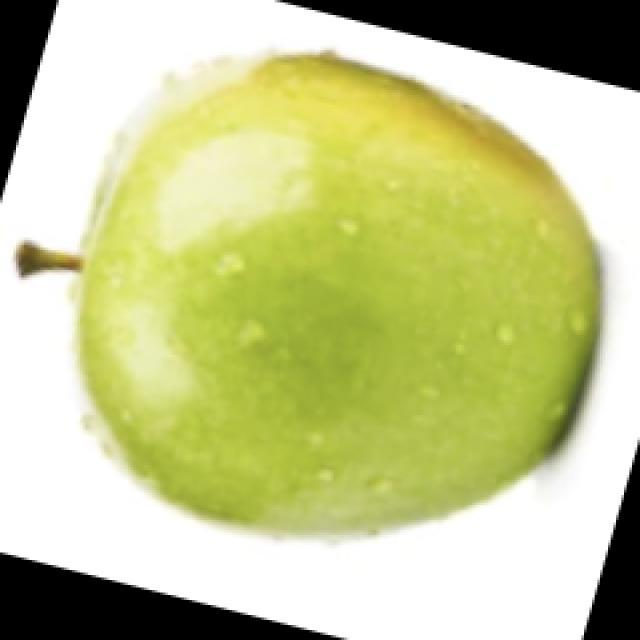Fresh Apple: (88, 66, 605, 522)
